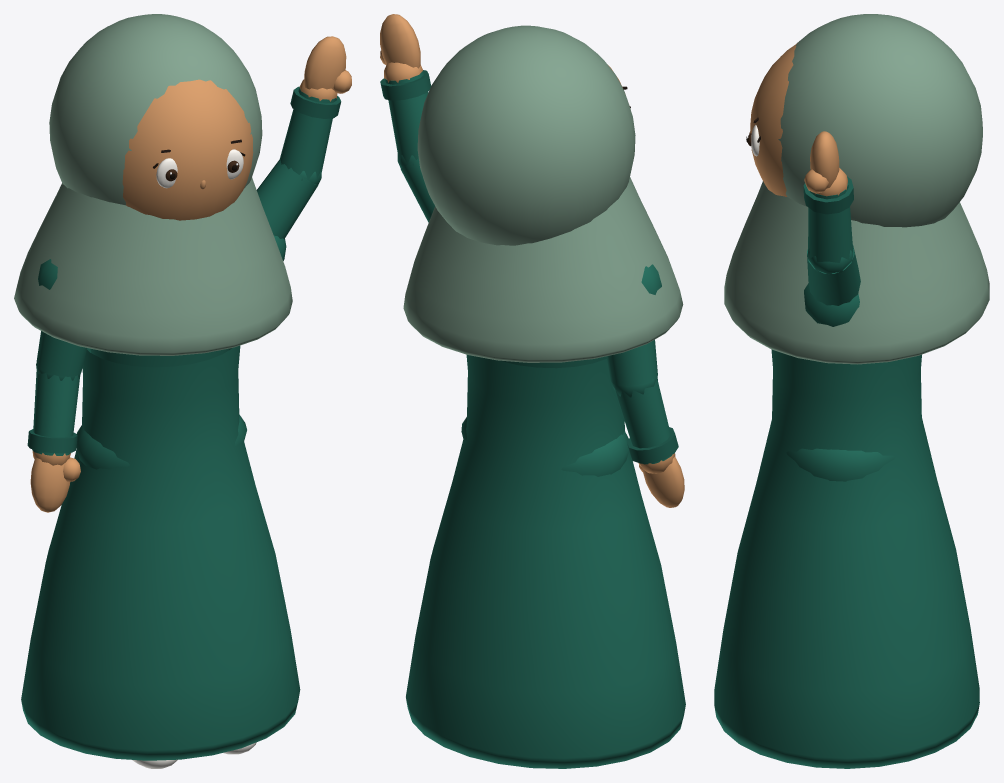
Rendered from 23-intan.glb.
3 views of the same model, side by side, from view 1: azimuth 30°, elevation 25°; view 2: azimuth 150°, elevation 25°; view 3: azimuth 270°, elevation 25° (orthographic). The views are drawn at different scales.
Visible parts, largest first — view 1: Intan, skull, elbow (×2), armL, armR; view 2: Intan, skull, elbow (×2), armR, armL; view 3: Intan, skull, elbow, armL.
Boxes of the visible parts, box(x1,y1,x2,y2) form: Intan: box(21, 345, 300, 768); skull: box(14, 14, 292, 355); elbow (×2): box(27, 36, 351, 512); armL: box(256, 160, 318, 260); armR: box(36, 259, 86, 376); Intan: box(406, 355, 685, 768); skull: box(403, 25, 683, 362); elbow (×2): box(380, 14, 684, 507); armR: box(606, 264, 661, 385); armL: box(400, 158, 434, 222); Intan: box(714, 349, 979, 768); skull: box(724, 14, 989, 364); elbow: box(803, 131, 853, 274); armL: box(804, 245, 860, 326).
Size of the model in its own units: 0.4711 by 1.01 by 0.3561.
